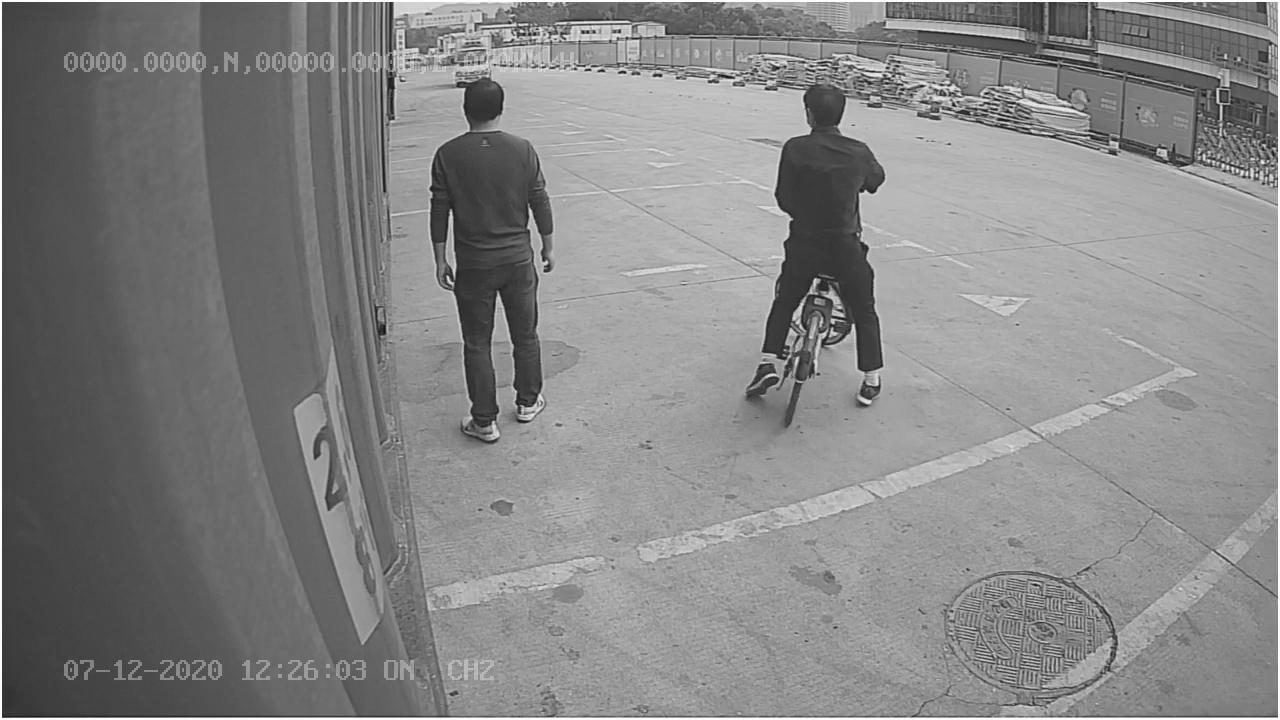person: (420, 73, 561, 449)
